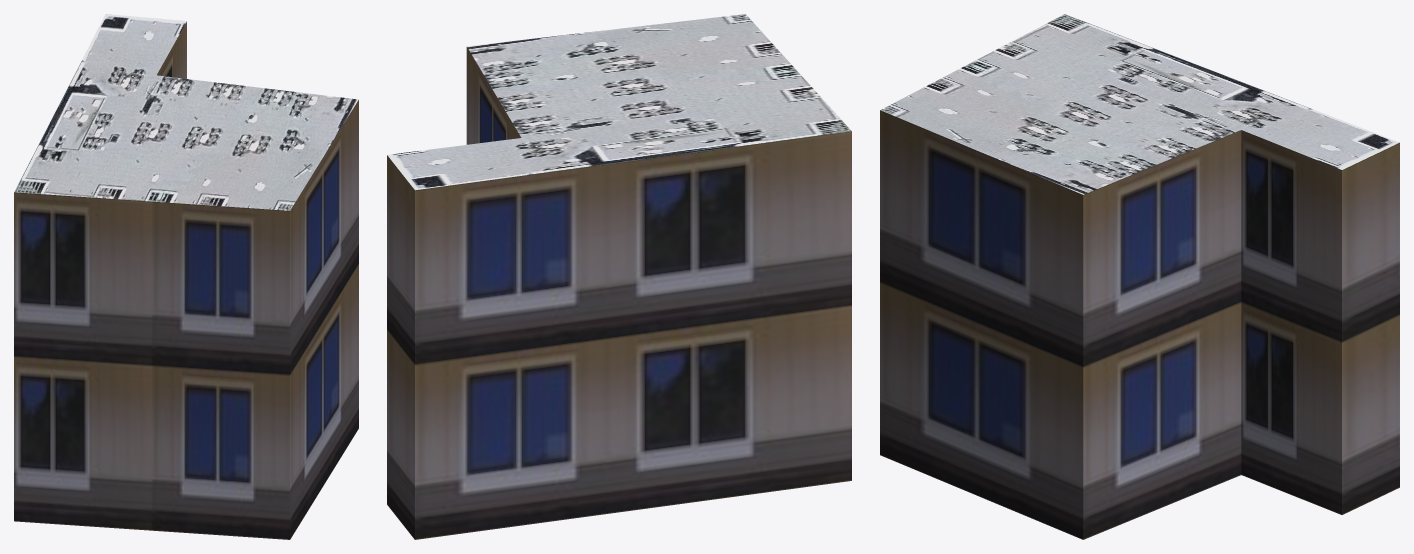
File: ResTex__1336.fbx
3 renders of one model, left to right at view 1: azimuth 30°, elevation 25°; view 2: azimuth 150°, elevation 25°; view 3: azimuth 270°, elevation 25°, orthographic. The views are drawn at different scales.
Visible parts, largest first — view 1: CityEngineMaterial_5_m, CityEngineMaterial_4_m; view 2: CityEngineMaterial_5_m, CityEngineMaterial_4_m; view 3: CityEngineMaterial_5_m, CityEngineMaterial_4_m.
Part boxes in pixels (left/top/right/bottom): CityEngineMaterial_5_m: left=14, top=21, right=358, bottom=539; CityEngineMaterial_4_m: left=14, top=14, right=358, bottom=210; CityEngineMaterial_5_m: left=387, top=47, right=851, bottom=539; CityEngineMaterial_4_m: left=387, top=14, right=851, bottom=190; CityEngineMaterial_5_m: left=880, top=110, right=1399, bottom=539; CityEngineMaterial_4_m: left=880, top=14, right=1399, bottom=194.
Bounding box in the file's own units: 6.75 × 6 × 8.19.
2 materials, 2 textured.
